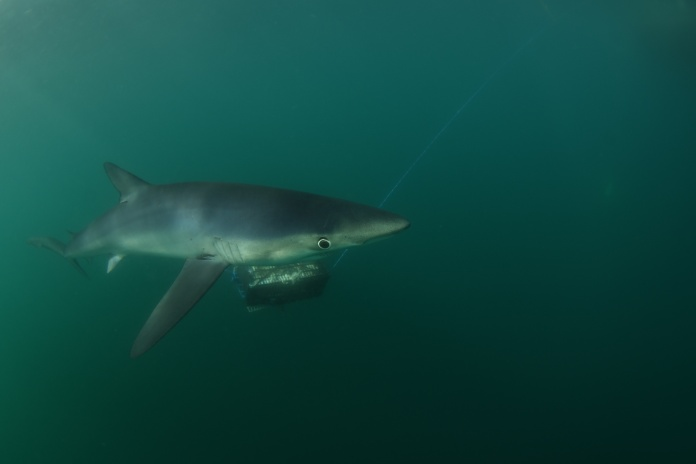Azul: (1, 152, 503, 374)
